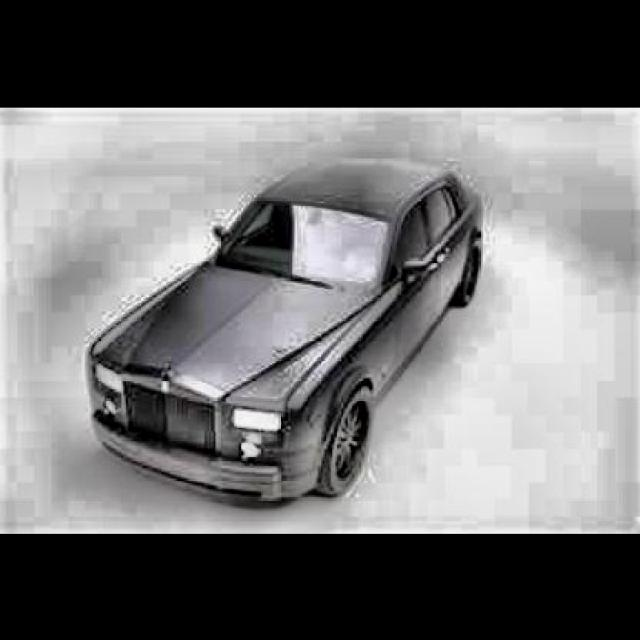black: (57, 157, 473, 530)
